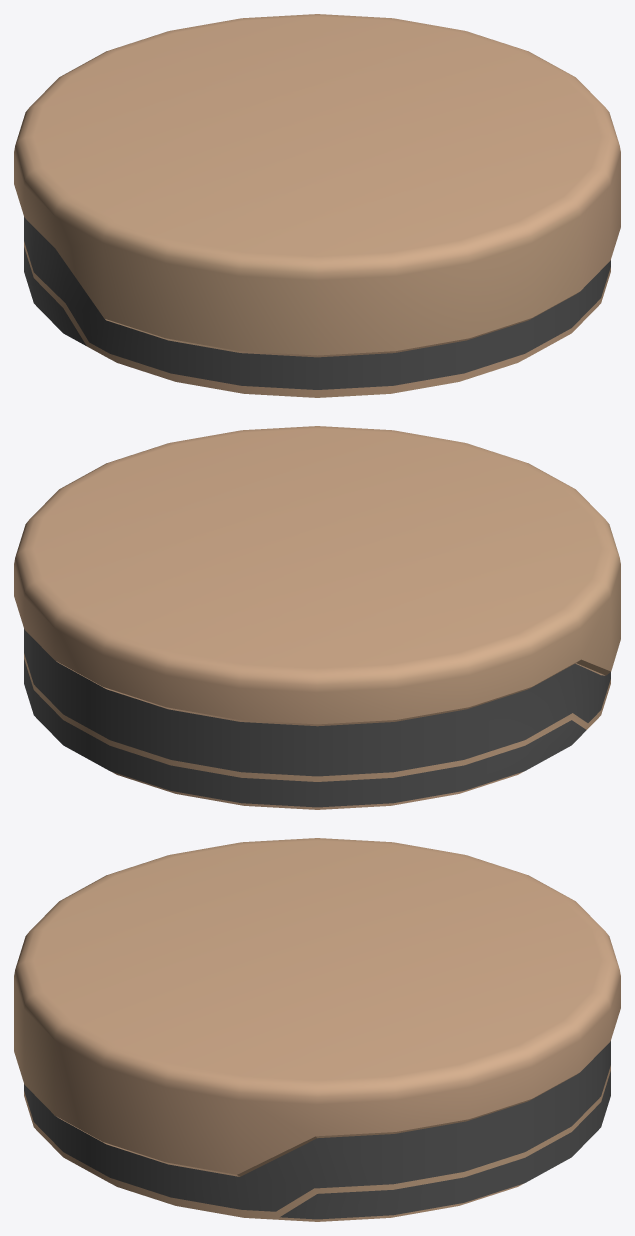
File: MOb_Stool_003_b.fbx
The picture shows the model from 3 angles, top to bottom: view 1: azimuth 30°, elevation 25°; view 2: azimuth 150°, elevation 25°; view 3: azimuth 270°, elevation 25°; orthographic projection.
Parts seen in each view (by area): view 1: MOb_Stool_003_b; view 2: MOb_Stool_003_b; view 3: MOb_Stool_003_b.
Boxes of the visible parts, x1,y1,x2,y2 form: MOb_Stool_003_b: (14, 14, 620, 397); MOb_Stool_003_b: (14, 426, 620, 809); MOb_Stool_003_b: (14, 838, 620, 1221).
Bounding box in the file's own units: 0.7 × 0.18 × 0.7.
